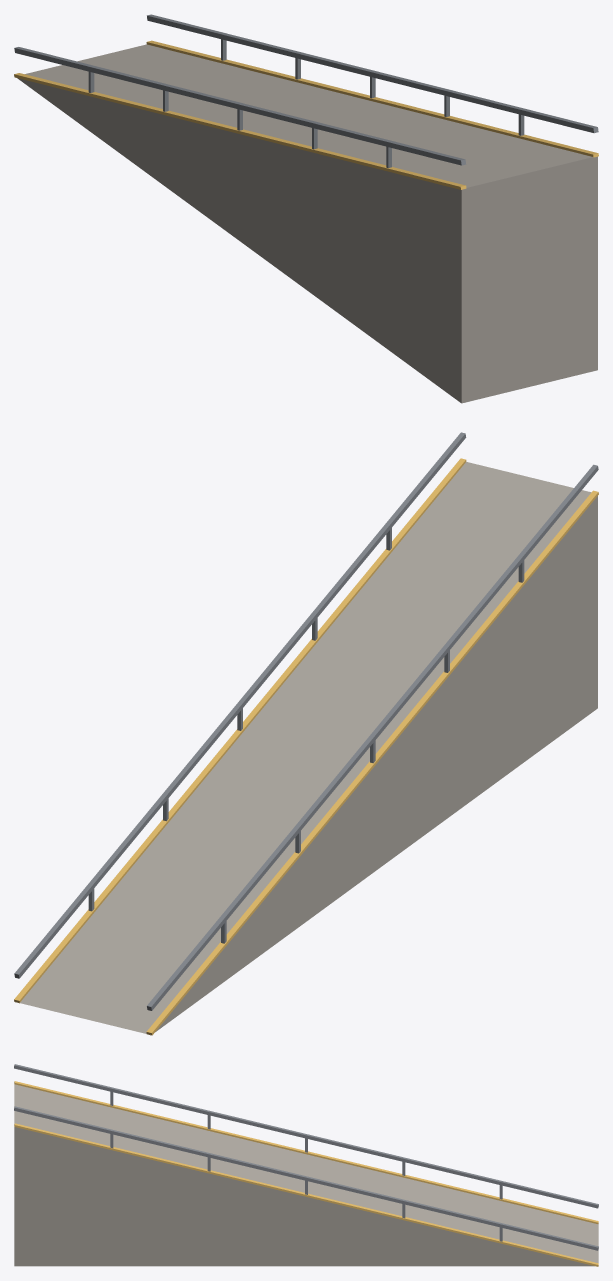
File: ramp_17m_v1.glb
3 renders of one model, top to bottom at view 1: azimuth 30°, elevation 25°; view 2: azimuth 150°, elevation 25°; view 3: azimuth 270°, elevation 25°, orthographic. The views are drawn at different scales.
Parts seen in each view (by area): view 1: ramp_17m; view 2: ramp_17m; view 3: ramp_17m.
Part boxes in pixels (x1,y1,x2,y2): ramp_17m: (14,14,598,403); ramp_17m: (14,432,598,1035); ramp_17m: (14,1064,598,1266).
Bounding box in the file's own units: 3.03 × 5.11 × 17.03.
